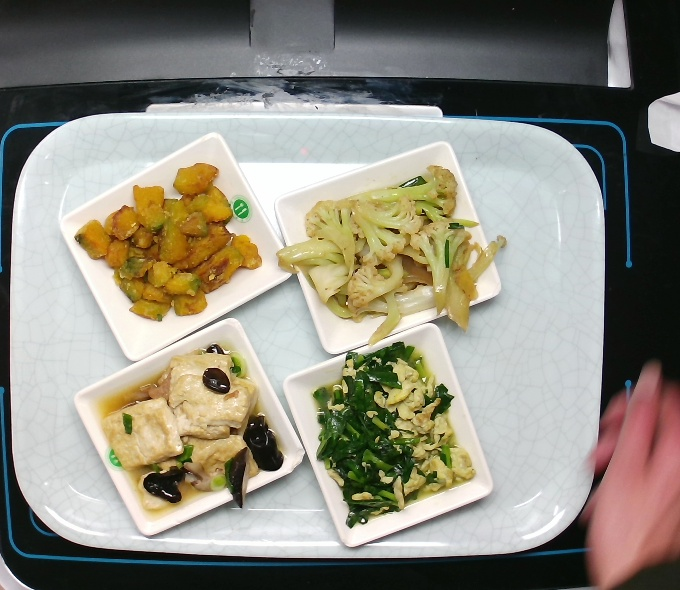wcq-DanHuangNanGua: (62, 151, 274, 324)
wcq-JiaChangDouFu: (100, 348, 283, 526)
wcq-JiuCaiJiDan: (309, 341, 477, 529)
wcq-QiuCai: (302, 168, 491, 335)
